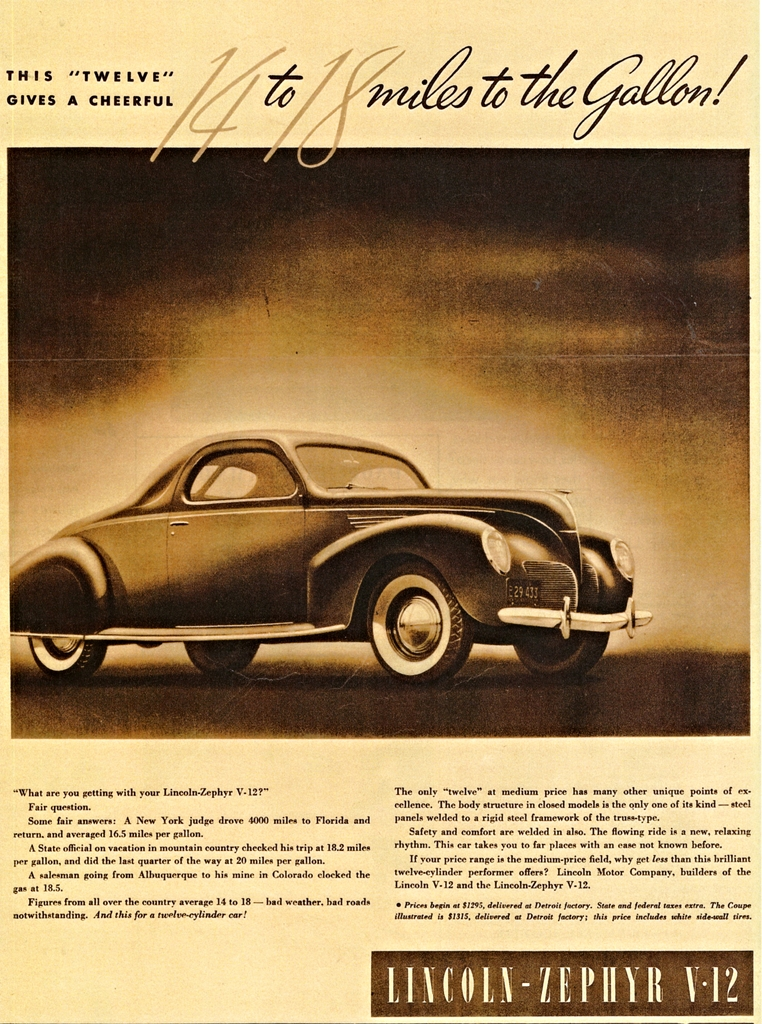Car: (5, 427, 653, 684)
